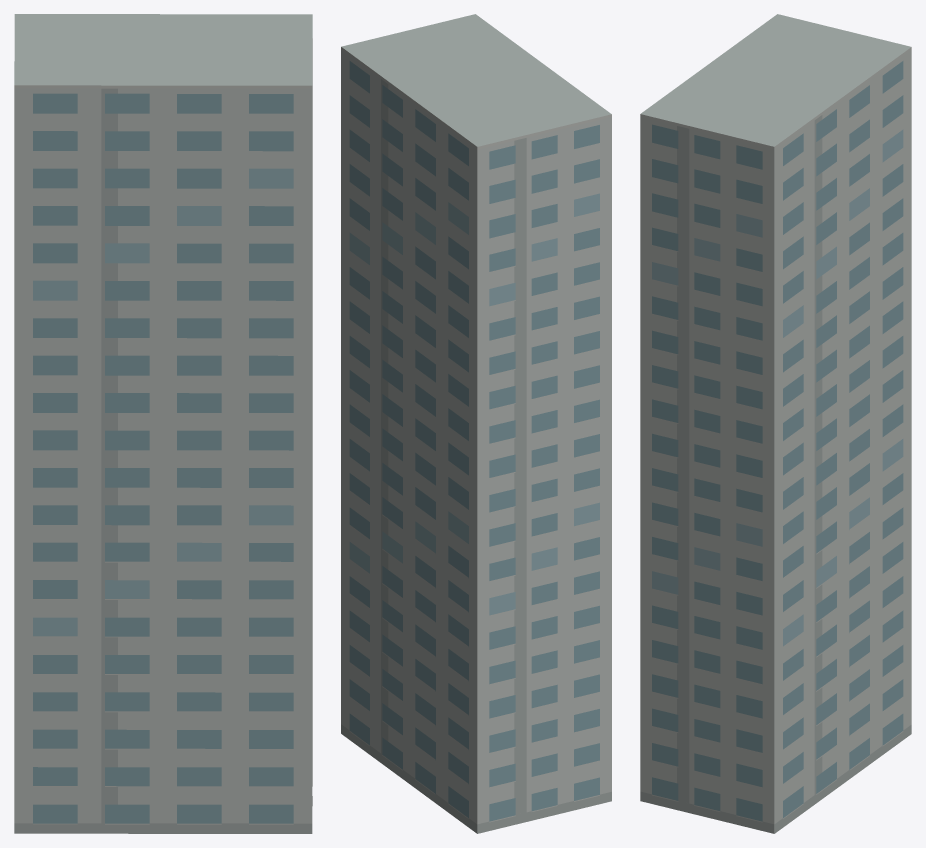
The model's file is residential-81ff9169-2e07-4d18-9c85-c825336896c2.glb.
The picture shows the model from 3 angles, left to right: view 1: azimuth 30°, elevation 25°; view 2: azimuth 150°, elevation 25°; view 3: azimuth 270°, elevation 25°; orthographic projection. The views are drawn at different scales.
Parts seen in each view (by area): view 1: residential-81ff9169-2e07-4d18-9c85-c825336896c2.tmp; view 2: residential-81ff9169-2e07-4d18-9c85-c825336896c2.tmp; view 3: residential-81ff9169-2e07-4d18-9c85-c825336896c2.tmp.
Boxes of the visible parts, left/top/right/bottom form: residential-81ff9169-2e07-4d18-9c85-c825336896c2.tmp: left=14, top=14, right=312, bottom=833; residential-81ff9169-2e07-4d18-9c85-c825336896c2.tmp: left=341, top=14, right=611, bottom=833; residential-81ff9169-2e07-4d18-9c85-c825336896c2.tmp: left=640, top=14, right=911, bottom=833.
Bounding box in the file's own units: 24.89 × 60 × 21.5.
